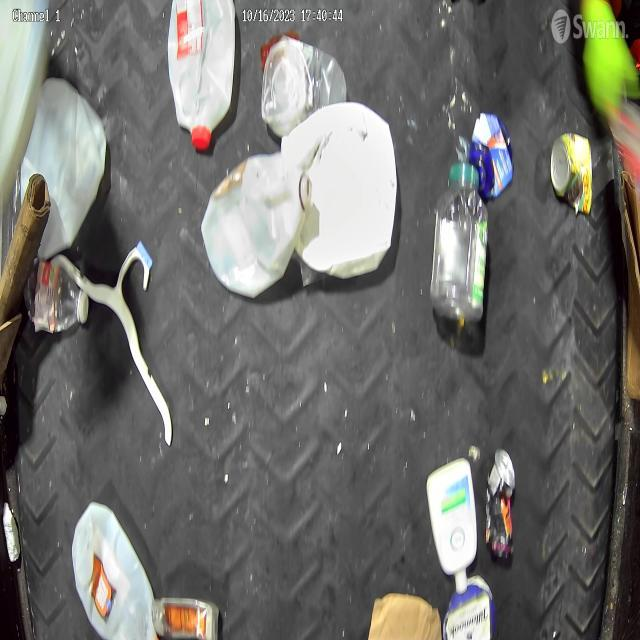can: (483, 442, 517, 562), (548, 130, 595, 212)
milk_jug: (300, 102, 400, 282), (204, 150, 310, 290), (168, 1, 234, 143)
plastic_bottle: (32, 258, 88, 338)
